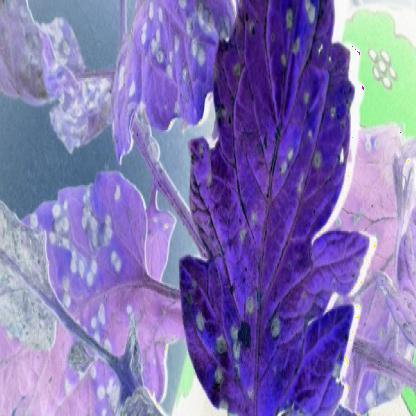Tomato Septoria leaf spot: (177, 3, 370, 414), (1, 167, 173, 414), (6, 12, 114, 177)
